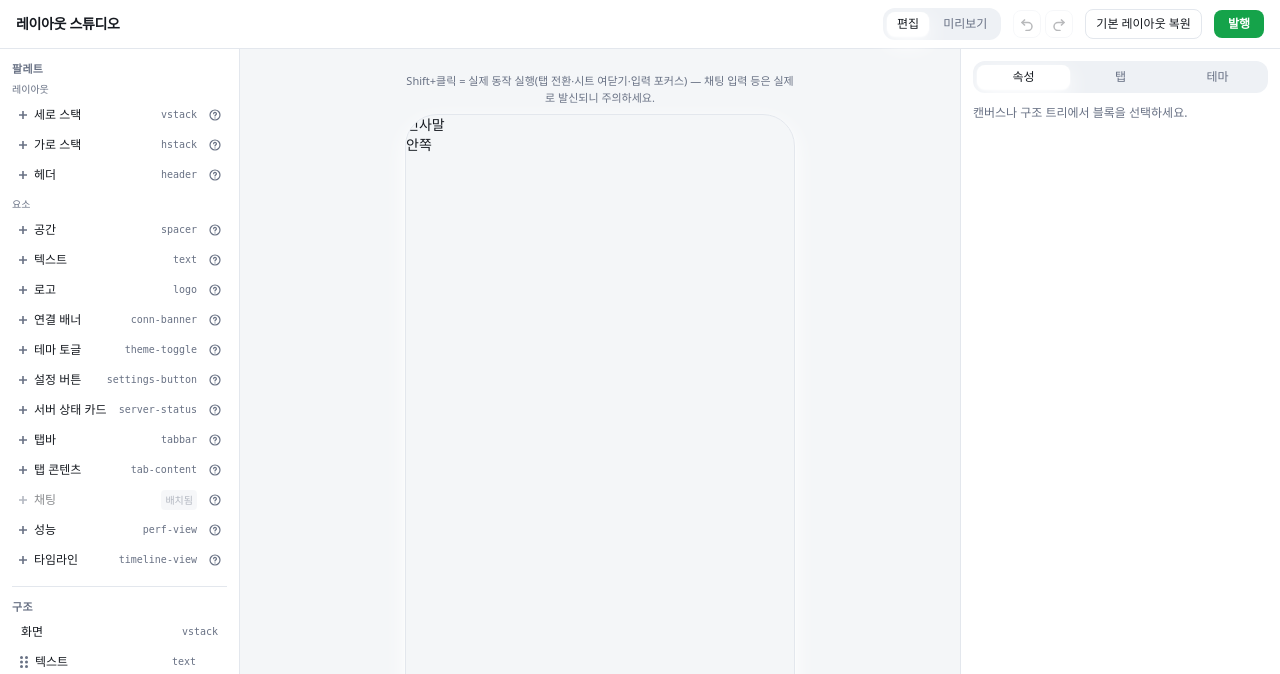
Scenario: StudioApp (T6.3 — 우클릭 컨텍스트 메뉴 배선) › 이름 변경: 2단 입력 패널에서 Enter로 커밋한다(트리 인라인과 같은 규칙)
Right-click the text "인사말" at (425, 124), box [406,115,445,134]
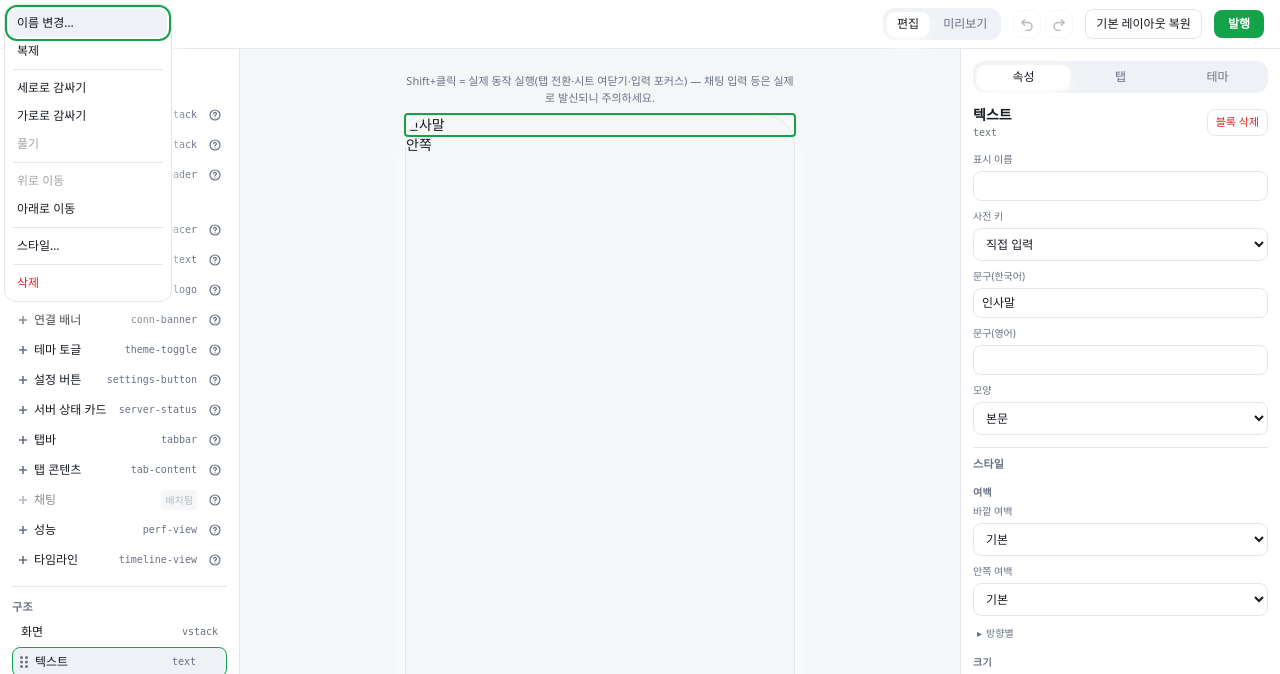
Click the menu item "이름 변경…" at (88, 23), box [9,9,167,37]
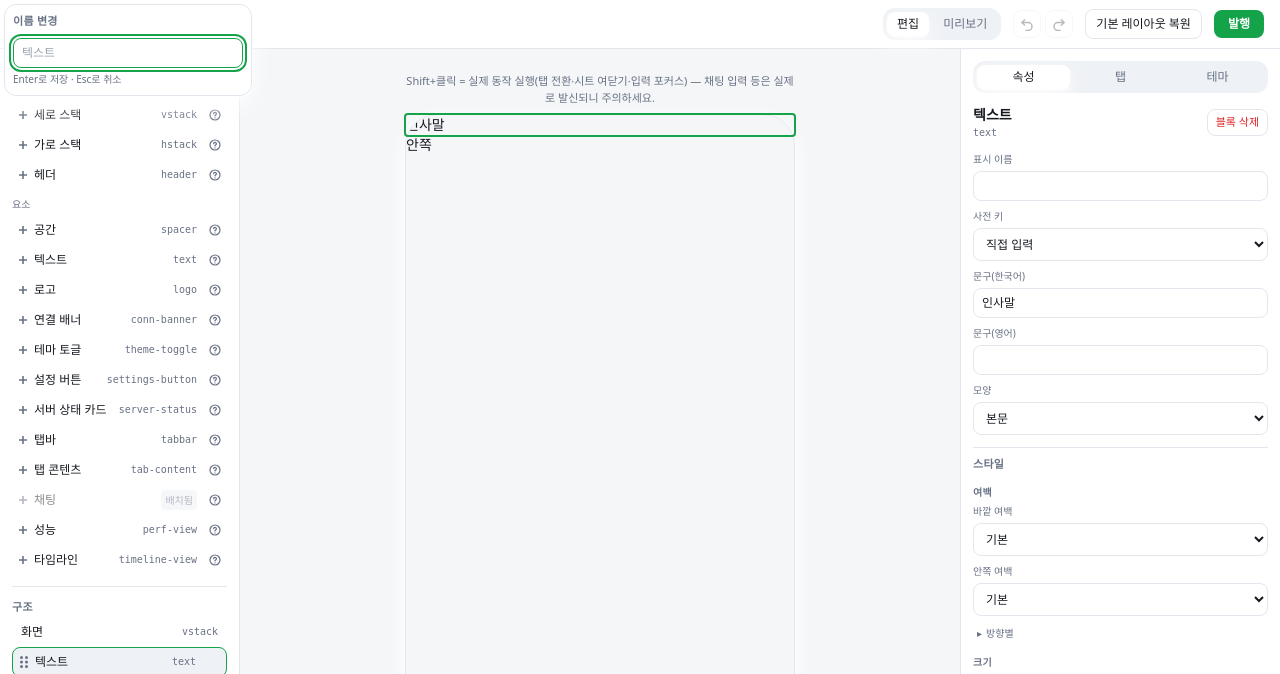
Type "환영 문구" into the field with placeholder "텍스트" at (128, 52), box [13,38,243,68]
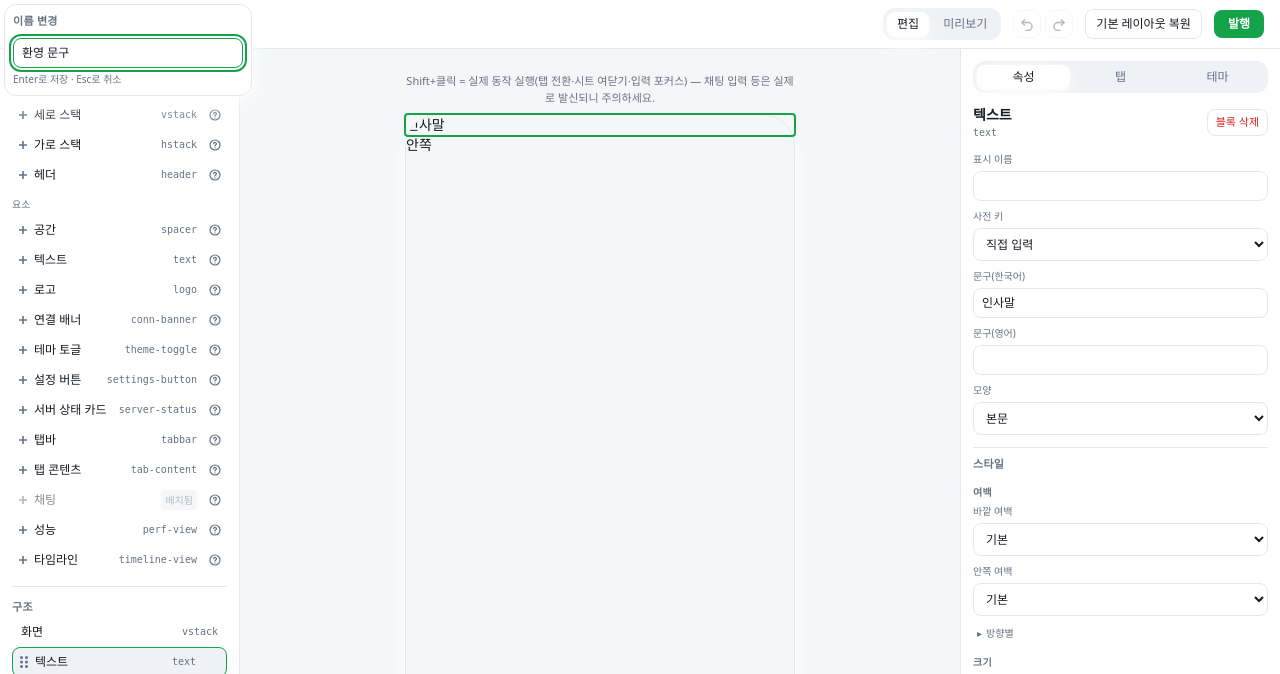
Press Enter in the field named "표시 이름", box [13,38,243,68]
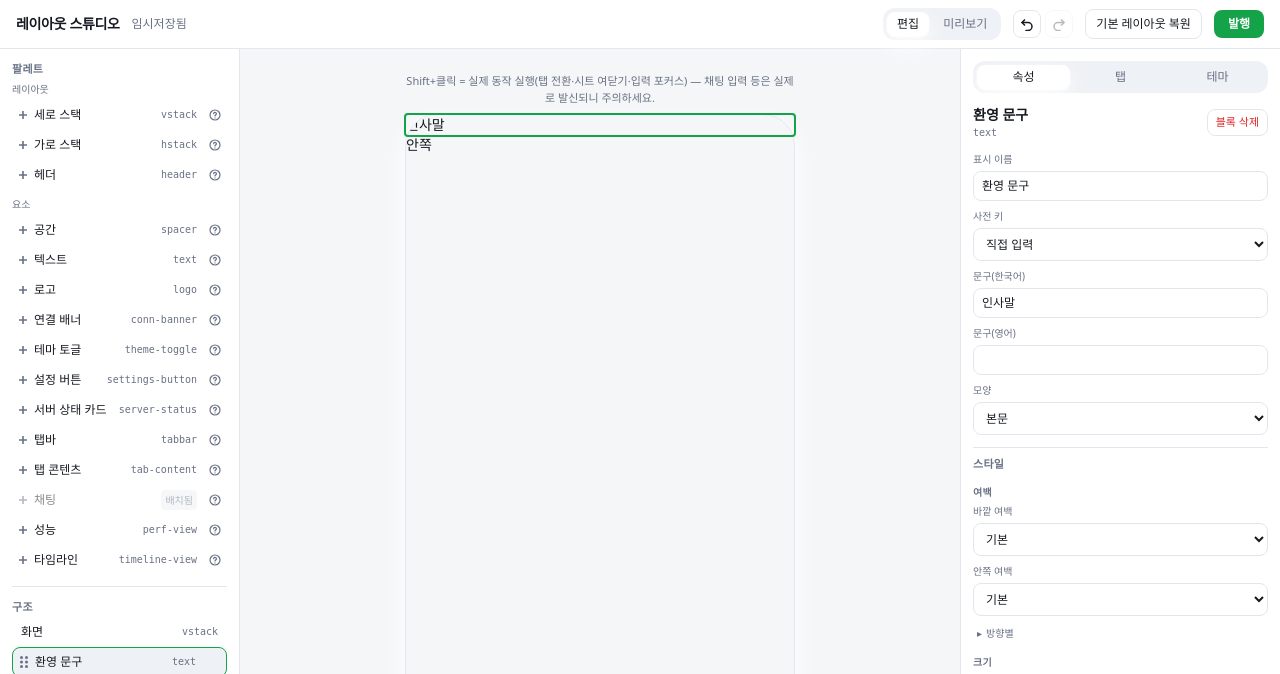
Check: the dialog is gone
Check: the element showing "환영 문구 text" below "구조" is shown, box [35,653,82,670]
